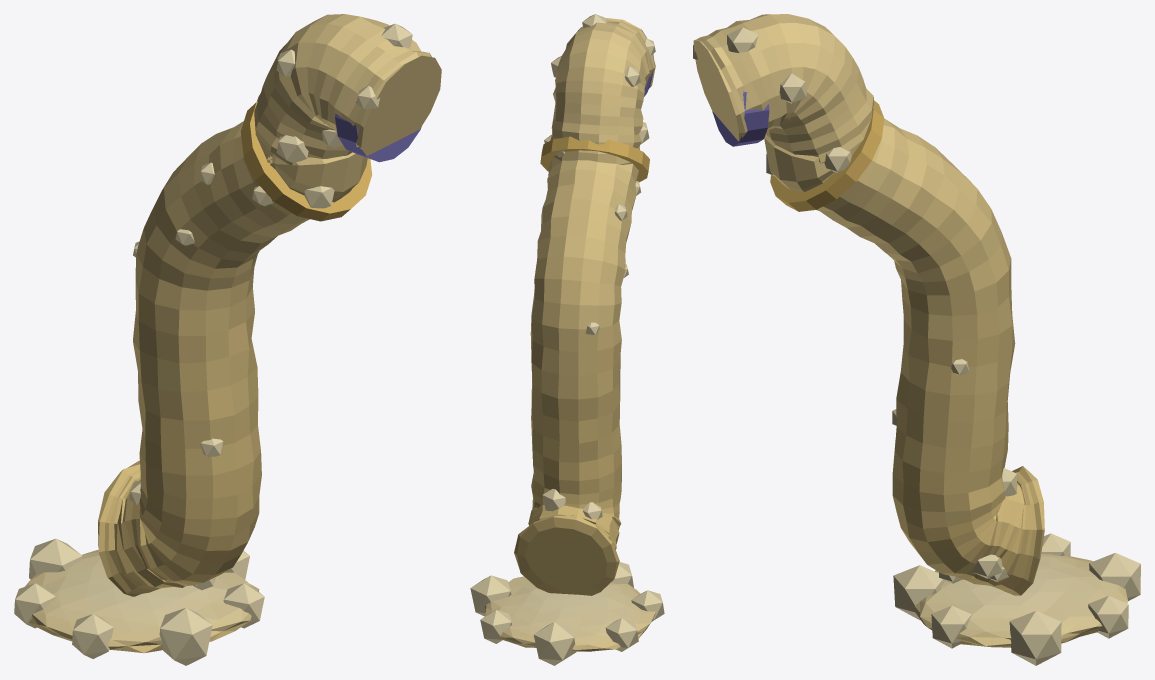
File: goo_drop_tube_goo_2@starlight.fbx
The picture shows the model from 3 angles, left to right: view 1: azimuth 30°, elevation 25°; view 2: azimuth 150°, elevation 25°; view 3: azimuth 270°, elevation 25°; orthographic projection. The views are drawn at different scales.
Visible parts, largest first — view 1: goo_drop_tube_goo_2; view 2: goo_drop_tube_goo_2; view 3: goo_drop_tube_goo_2.
Boxes of the visible parts, <box> form: goo_drop_tube_goo_2: <box>14,14,441,665</box>; goo_drop_tube_goo_2: <box>470,14,664,665</box>; goo_drop_tube_goo_2: <box>693,14,1140,665</box>.
Size of the model in its own units: 8.66 by 21.79 by 13.69.
